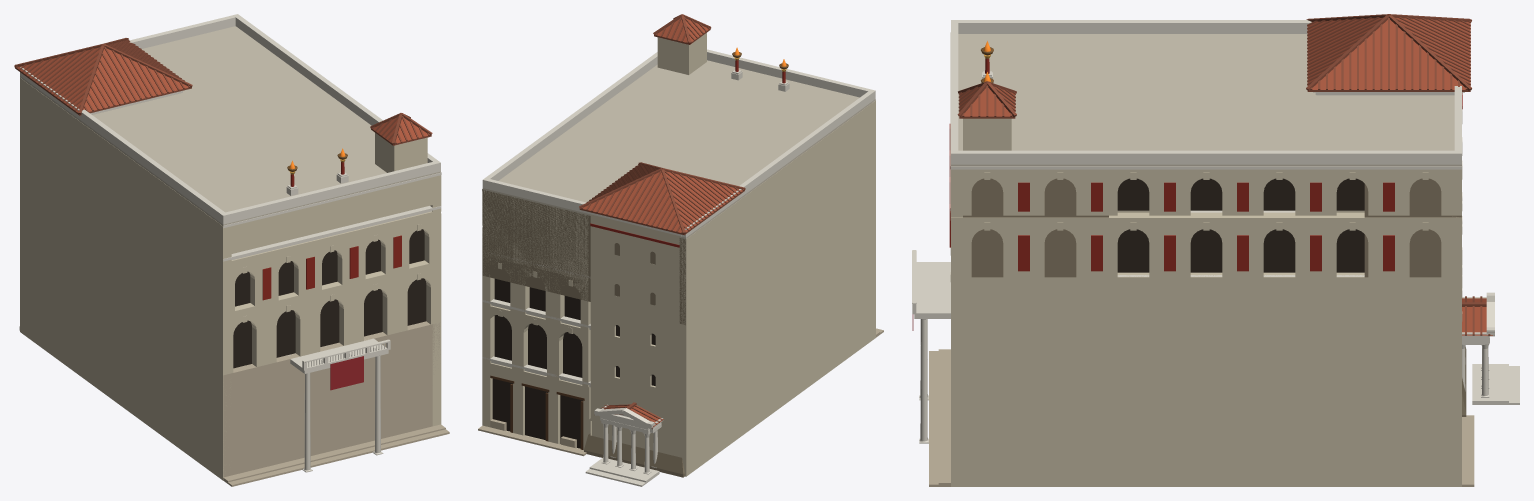
File: rome_circus_end_r.glb
The picture shows the model from 3 angles, left to right: view 1: azimuth 30°, elevation 25°; view 2: azimuth 150°, elevation 25°; view 3: azimuth 270°, elevation 25°; orthographic projection. The views are drawn at different scales.
Visible parts, largest first — view 1: rome_circus_end_r; view 2: rome_circus_end_r; view 3: rome_circus_end_r.
Part boxes in pixels (x1=…): rome_circus_end_r: x1=14, y1=14, x2=449, y2=486; rome_circus_end_r: x1=478, y1=14, x2=883, y2=486; rome_circus_end_r: x1=912, y1=14, x2=1519, y2=486.
Size of the model in its own units: 26.44 by 35.32 by 49.94.
